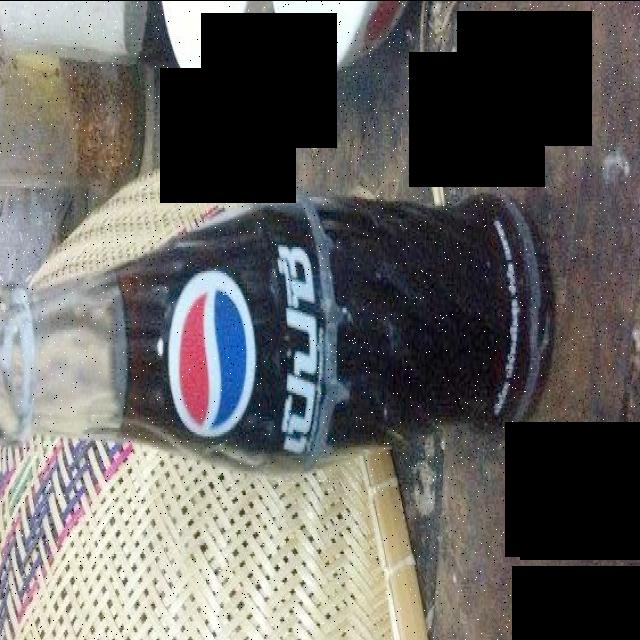glass-bottle: (1, 138, 565, 526)
